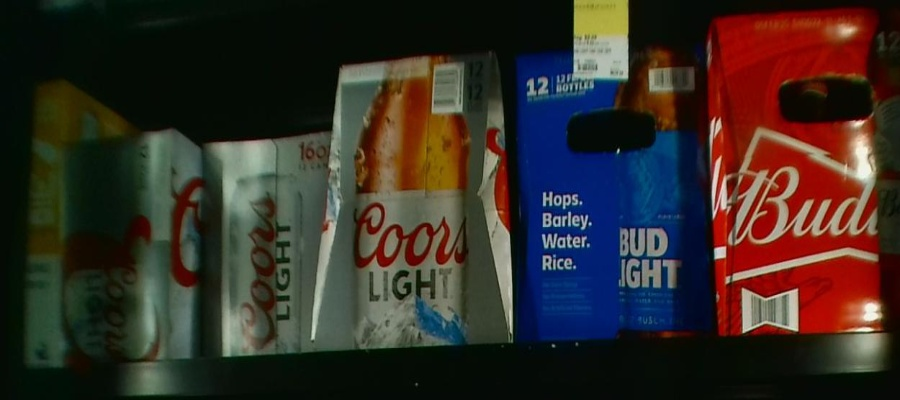bottle: (712, 10, 900, 332), (521, 49, 713, 334), (336, 60, 513, 349), (66, 132, 201, 355), (201, 137, 322, 351)
